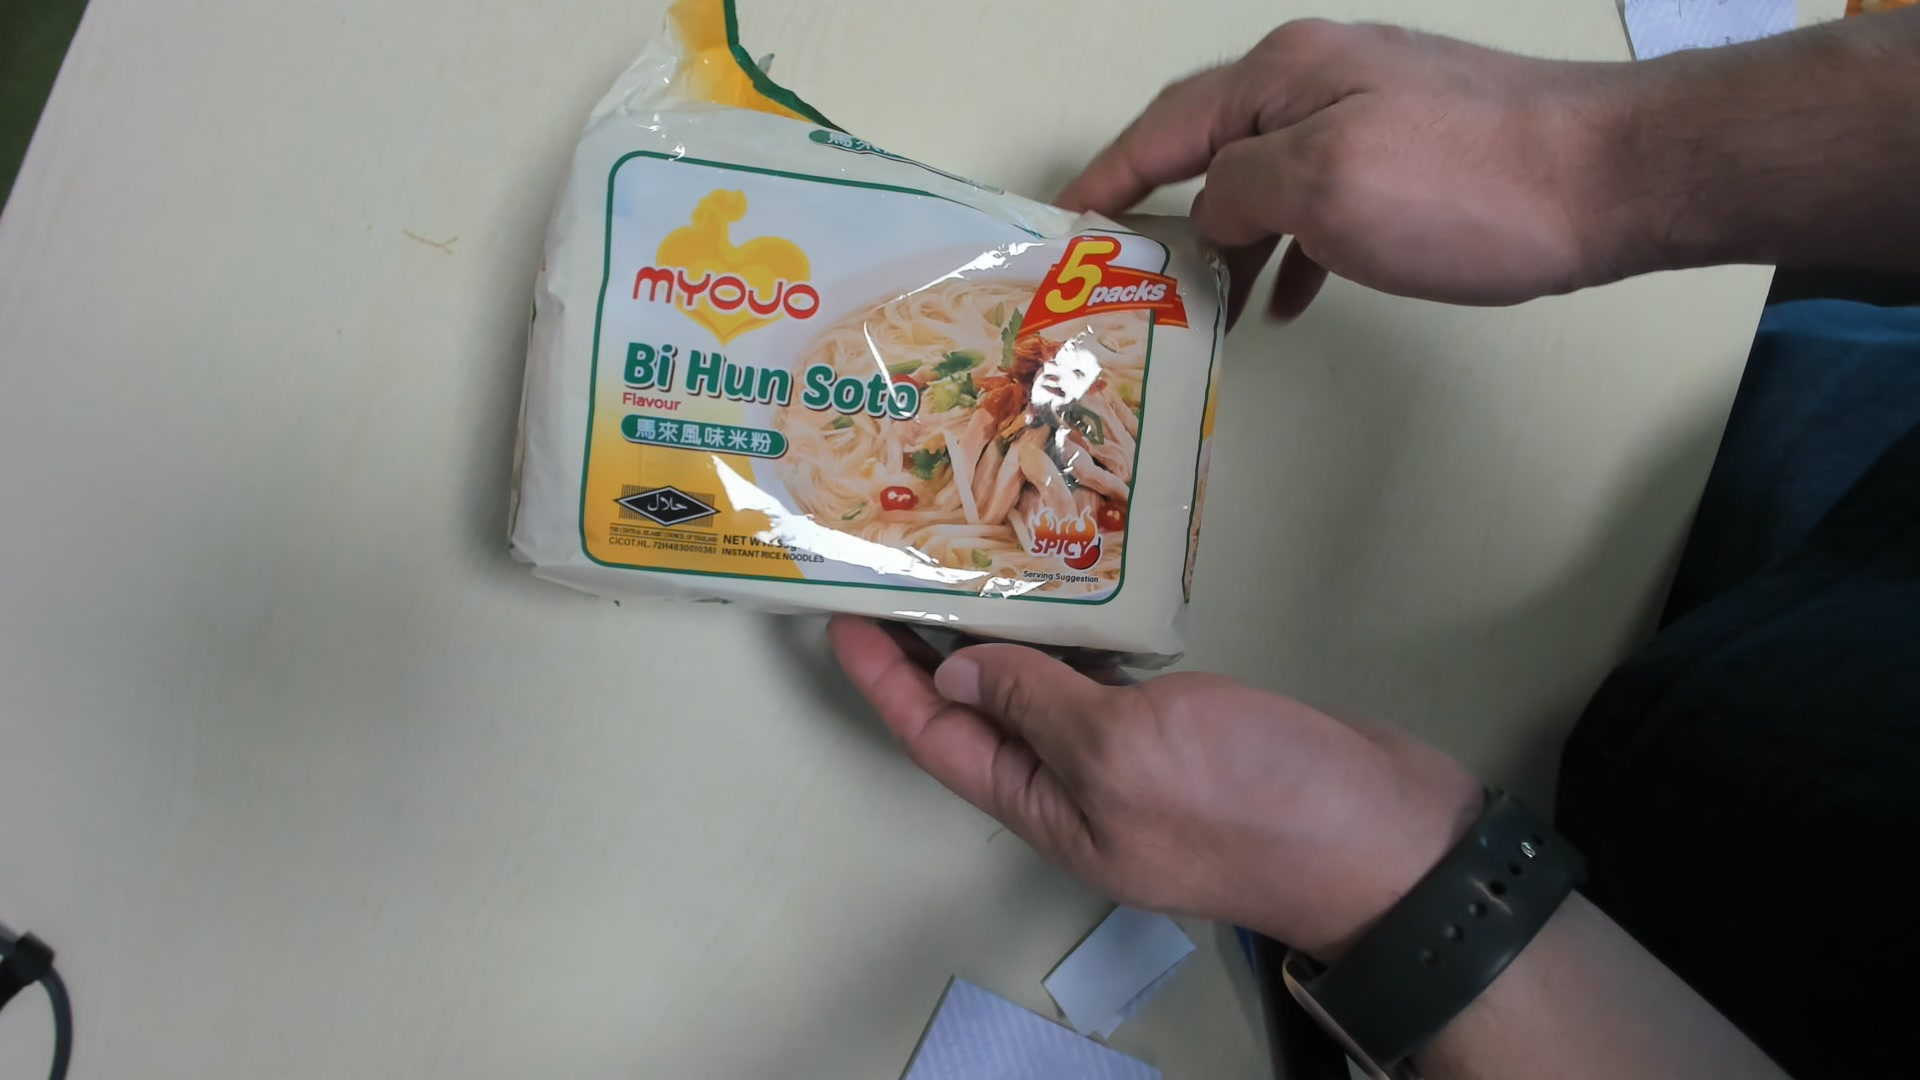OtherNoodles_400-499g_Halal_NonHealthy: (487, 9, 1226, 665)
